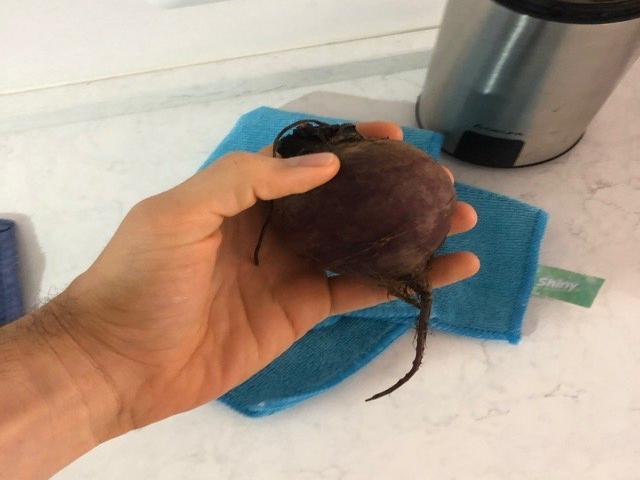beet: (255, 120, 455, 401)
